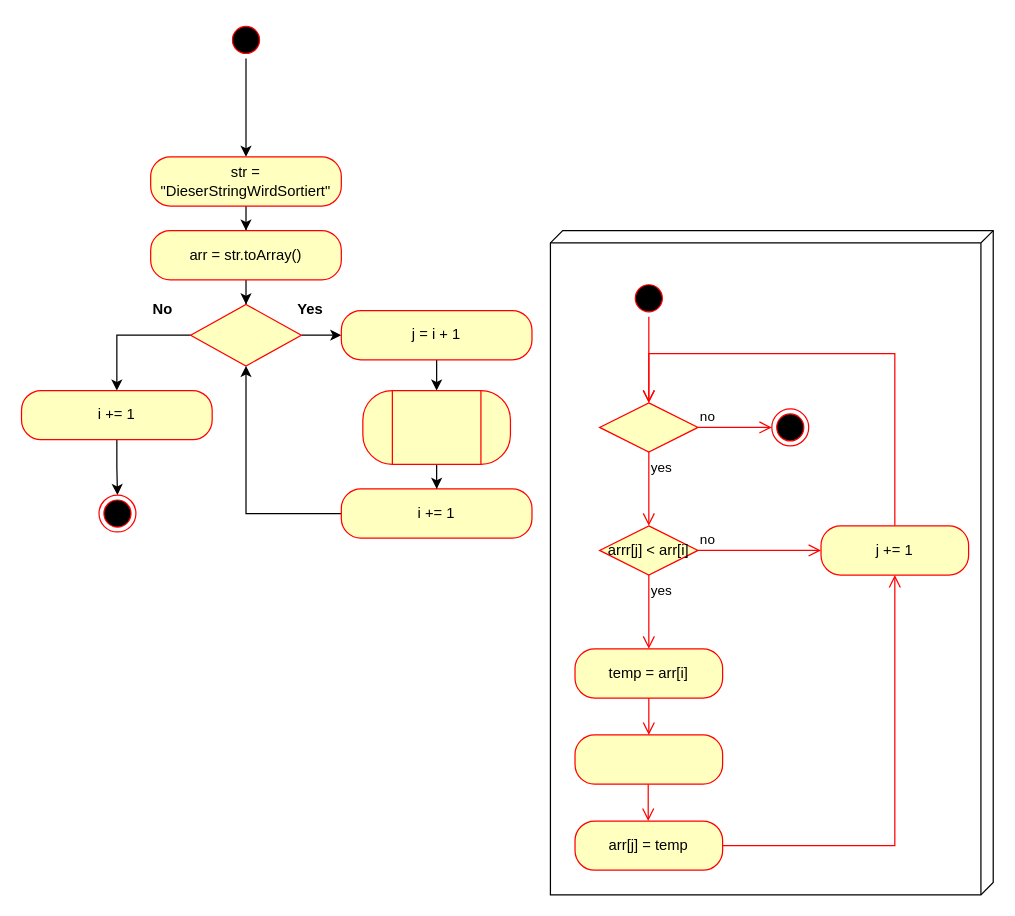
Image size: 1015x916. Some labels were removed from this diagram. The shapes that lost their labels are listed below. From the top down, each one's box as (x1, y1, x2, y2) in pixels, then its label:
(189, 303, 301, 366): i < arr.Lenght
(362, 389, 510, 464): Inner Loop()
(598, 402, 698, 452): j < arr.Length
(549, 229, 993, 895): Inner Loop
(574, 734, 723, 784): arr[i] = arr[j]
